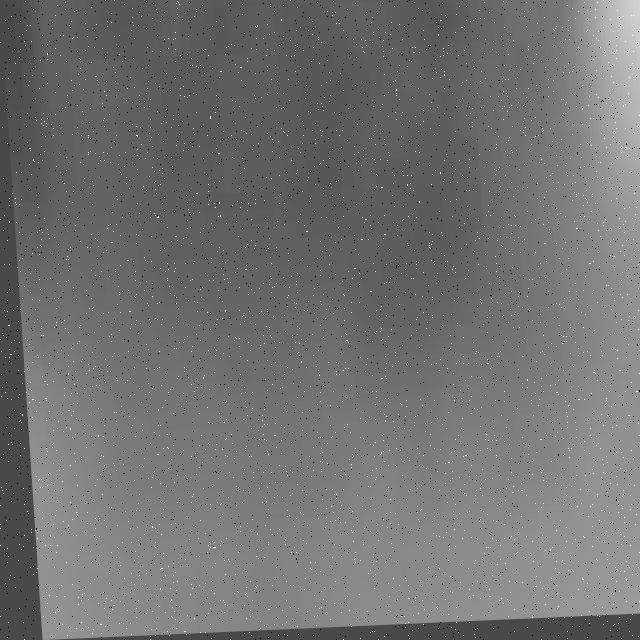person: (598, 1, 640, 376)
